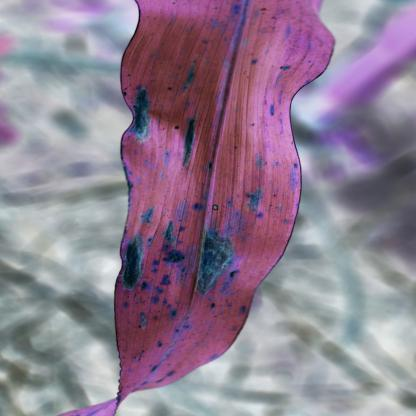corn leaf blight: (110, 2, 333, 413)
